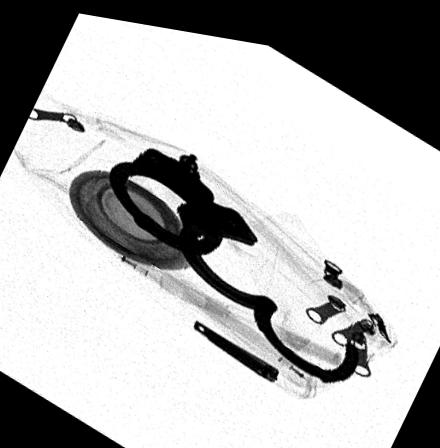HandCuffs: (109, 142, 359, 374)
